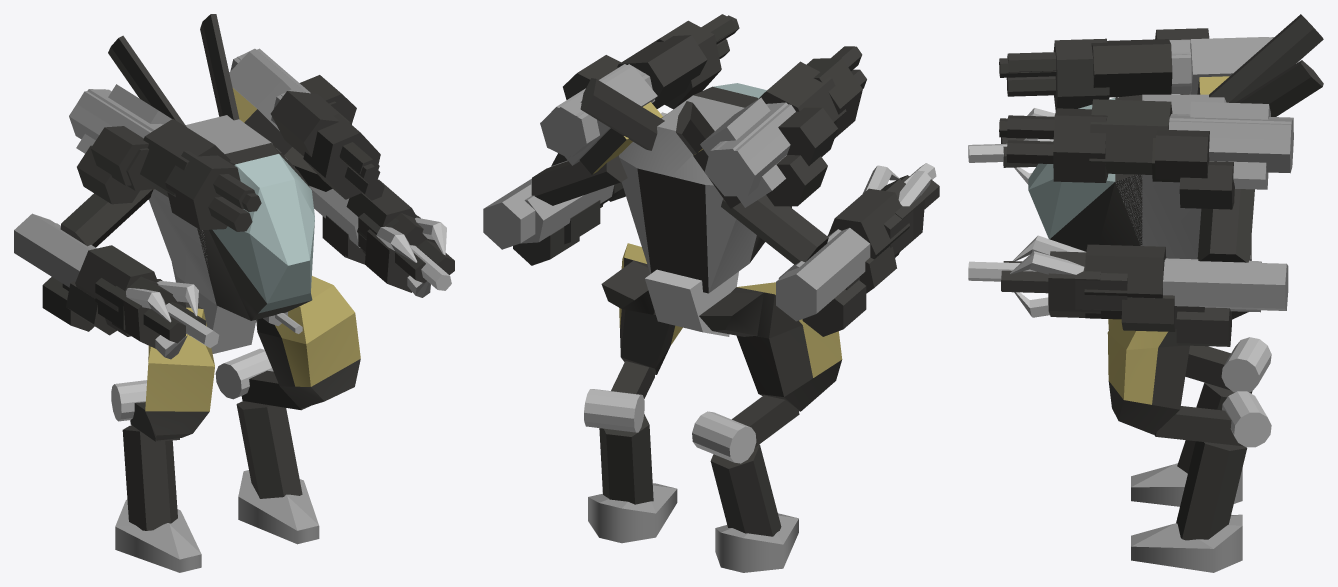
The model's file is Mech.fbx.
The picture shows the model from 3 angles, left to right: view 1: azimuth 30°, elevation 25°; view 2: azimuth 150°, elevation 25°; view 3: azimuth 270°, elevation 25°; orthographic projection. The views are drawn at different scales.
Parts seen in each view (by area): view 1: Face, Chest, Left Thigh, Right Thigh, Left Foot, Right Foot, Right Shoulder AutoCannon, Right Shoulder LaserCannon, Right Toes, Left Toes, Right Shoulder GaussCannon, Right Arm LaserCannon (+28 smaller); view 2: Chest, Right Thigh, Left Thigh, Left Shoulder LaserCannon, Right Shoulder GattlingCannon, Right Foot, Right Shin, Left Foot, Left Toes, Right Arm LaserCannon, Right Arm GattlingCannon, Pelvis (+27 smaller); view 3: Chest, Left Thigh, Left Arm LaserCannon, Left Arm GattlingCannon, Left Shoulder LaserCannon, Right Shoulder LaserCannon, Left Foot, Left Shoulder AutoCannon, Left Shoulder GattlingCannon, Left Ankle, Left Toes, Left Shoulder GaussCannon (+21 smaller).
Boxes of the visible parts, box(x1,y1,x2,y2) form: Face: box(212, 154, 314, 303); Chest: box(148, 115, 312, 320); Left Thigh: box(256, 276, 360, 408); Right Thigh: box(145, 279, 214, 440); Left Foot: box(236, 401, 302, 498); Right Foot: box(122, 425, 177, 530); Right Shoulder AutoCannon: box(91, 126, 255, 231); Right Shoulder LaserCannon: box(87, 89, 230, 197); Right Toes: box(115, 500, 201, 572); Left Toes: box(238, 470, 319, 544); Right Shoulder GaussCannon: box(165, 151, 240, 230); Right Arm LaserCannon: box(14, 213, 157, 336); Chest: box(619, 86, 791, 293); Right Thigh: box(699, 282, 842, 411); Left Thigh: box(601, 243, 682, 374); Left Shoulder LaserCannon: box(552, 35, 707, 155); Right Shoulder GattlingCannon: box(709, 133, 827, 206); Right Foot: box(710, 444, 781, 536); Right Shin: box(692, 395, 799, 463); Left Foot: box(599, 414, 653, 504); Left Toes: box(588, 483, 677, 543); Right Arm LaserCannon: box(776, 188, 910, 313); Right Arm GattlingCannon: box(776, 274, 866, 336); Pelvis: box(645, 269, 738, 336); Chest: box(1050, 94, 1226, 259); Left Thigh: box(1107, 311, 1248, 434); Left Arm LaserCannon: box(1084, 244, 1286, 319); Left Arm GattlingCannon: box(1163, 260, 1288, 346); Left Shoulder LaserCannon: box(1089, 99, 1293, 174); Right Shoulder LaserCannon: box(1091, 38, 1272, 97); Left Foot: box(1176, 441, 1247, 540); Left Shoulder AutoCannon: box(1006, 115, 1209, 179); Left Shoulder GattlingCannon: box(1179, 128, 1292, 209); Left Ankle: box(1154, 391, 1271, 447); Left Toes: box(1131, 514, 1242, 572); Left Shoulder GaussCannon: box(1053, 108, 1108, 182).
Bounding box in the file's own units: 149 × 206 × 136.
